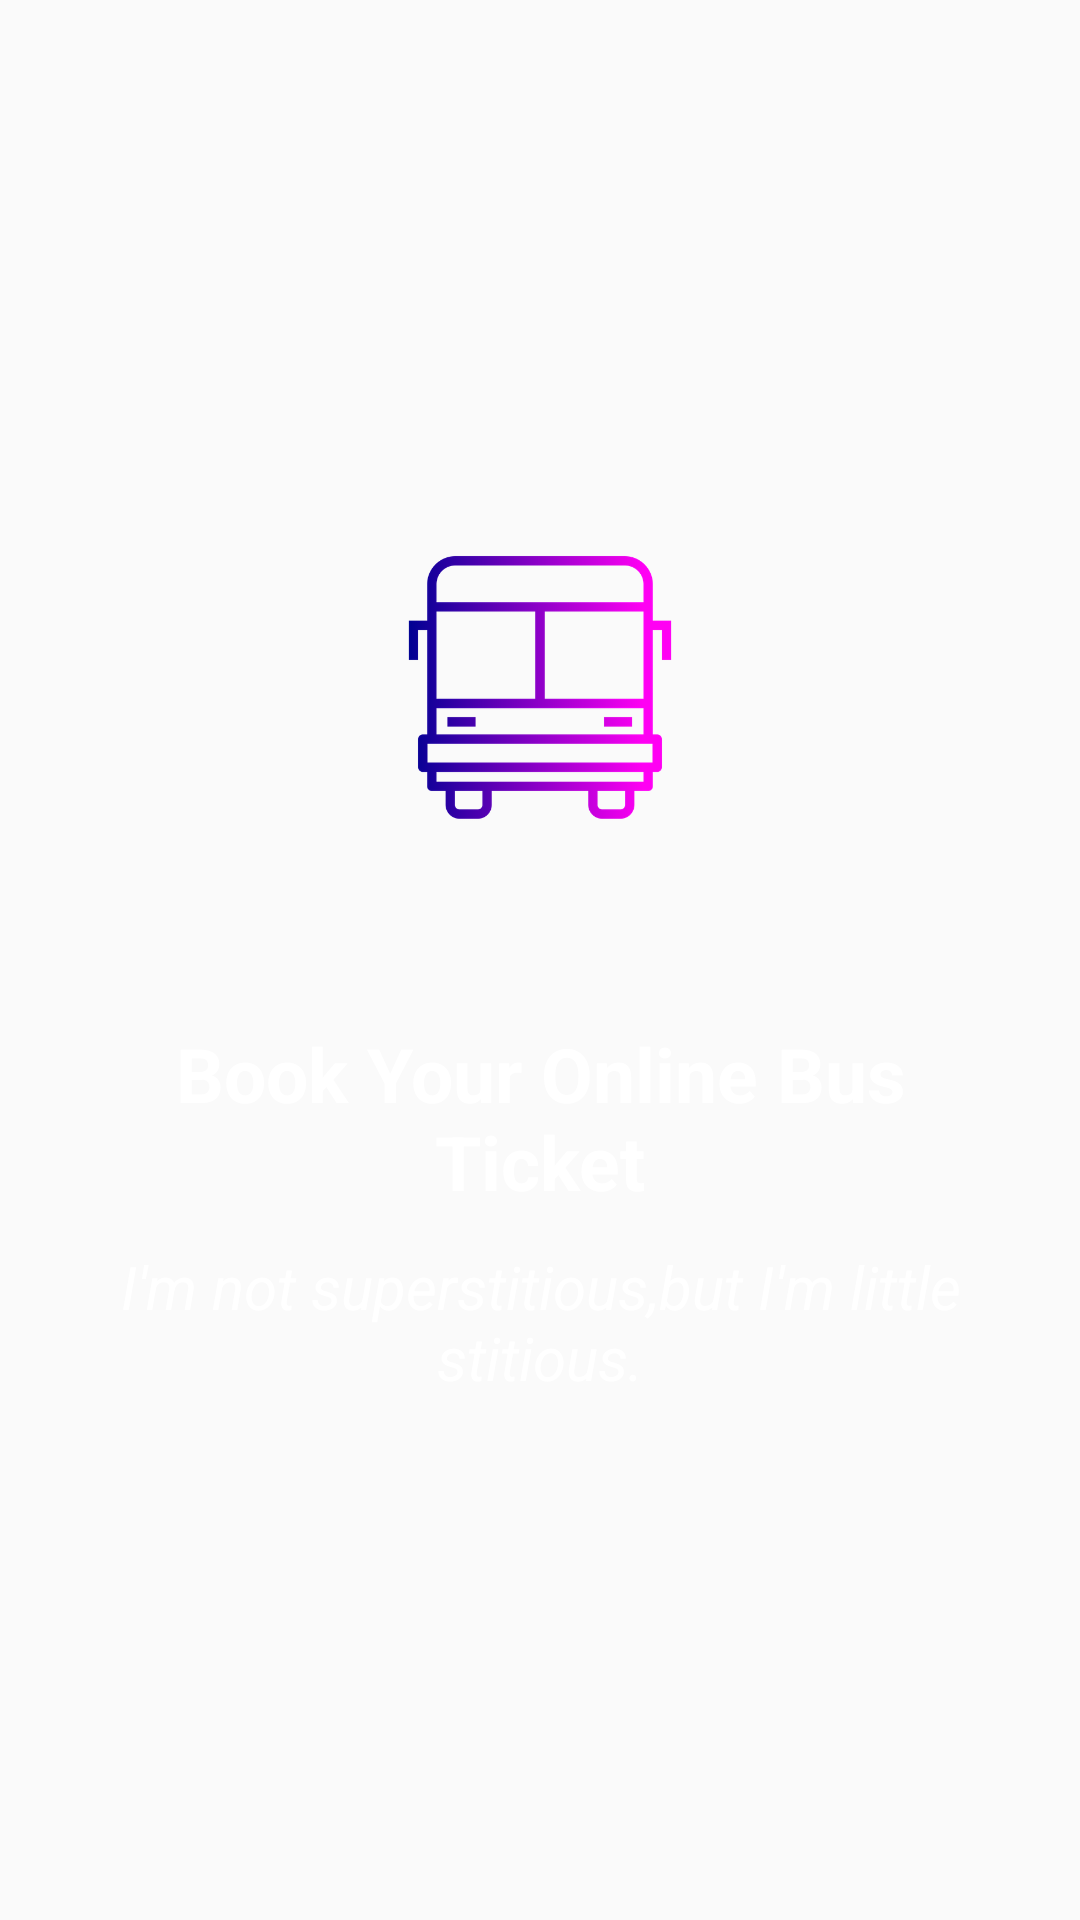

Screen size 1080×1920. Icon name, then its box in pixels as (x1, y1, x2, y2):
bus: (408, 556, 672, 819)
